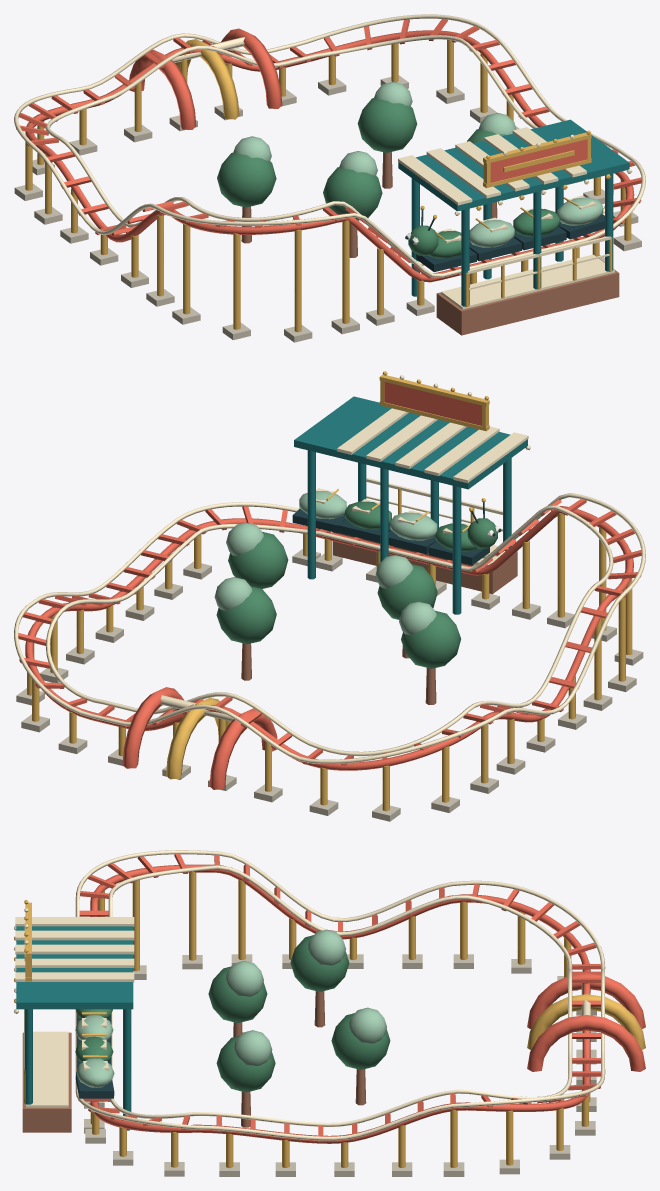
Rendered from ride_junior.glb.
3 renders of one model, top to bottom at view 1: azimuth 30°, elevation 25°; view 2: azimuth 150°, elevation 25°; view 3: azimuth 270°, elevation 25°, orthographic. The views are drawn at different scales.
Visible parts, largest first — view 1: ride_junior; view 2: ride_junior; view 3: ride_junior.
Boxes of the visible parts, x1,y1,x2,y2 form: ride_junior: (14, 14, 645, 342); ride_junior: (14, 371, 645, 821); ride_junior: (14, 850, 645, 1176).
Size of the model in its own units: 12.91 by 4.58 by 15.41.
